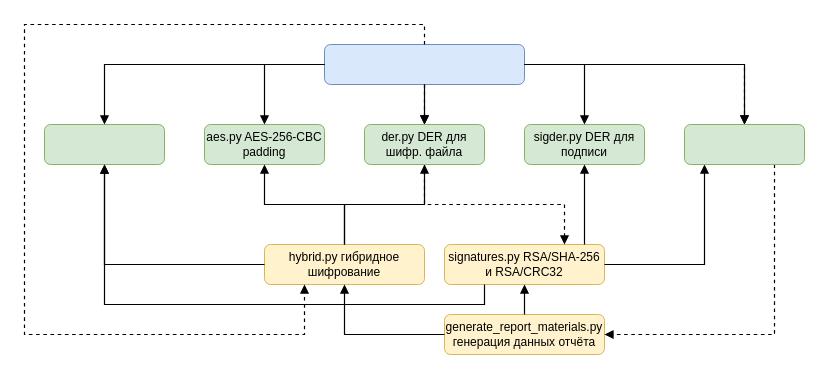
This 823x373 diagram has some shape labels left out. Each missing label, with the box of its shape:
crcforge.py подбор patch CRC32: (684, 124, 804, 164)
main.py командный интерфейс: (324, 44, 524, 84)
rsa.py RSA-ключи и операции: (44, 124, 164, 164)
